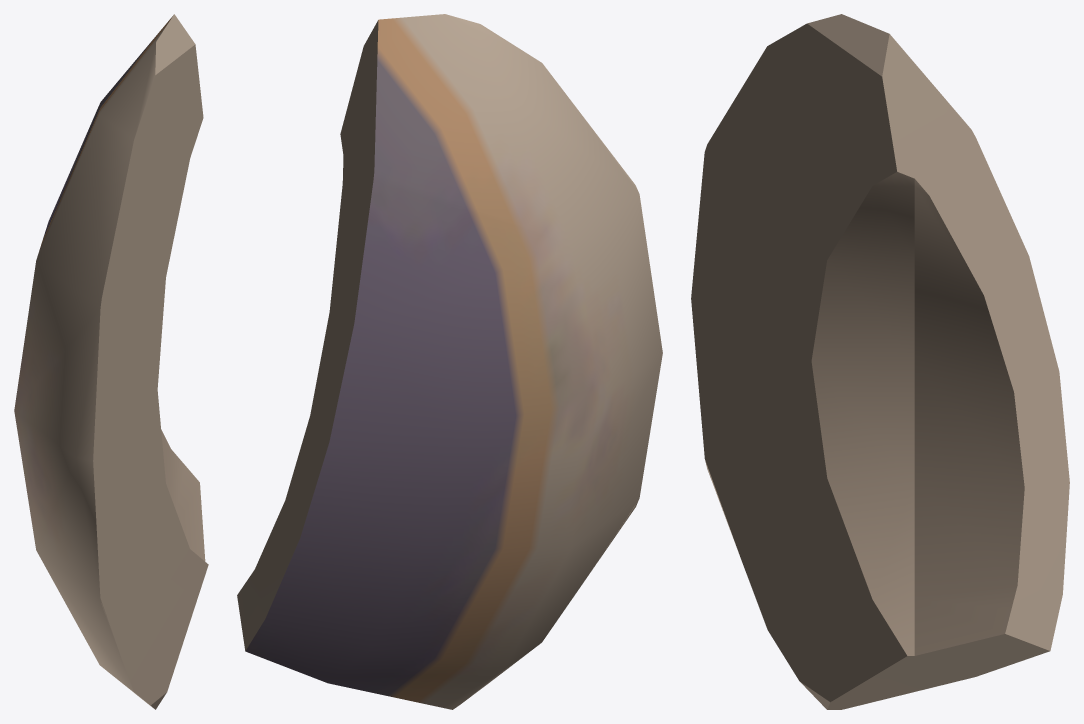
Rendered from Pot_Cell17.fbx.
3 views of the same model, side by side, from view 1: azimuth 30°, elevation 25°; view 2: azimuth 150°, elevation 25°; view 3: azimuth 270°, elevation 25° (orthographic). The views are drawn at different scales.
Visible parts, largest first — view 1: jar1_cell.017; view 2: jar1_cell.017; view 3: jar1_cell.017.
Part boxes in pixels (<box>): jar1_cell.017: <box>14,14,208,709</box>; jar1_cell.017: <box>237,14,662,709</box>; jar1_cell.017: <box>691,14,1069,709</box>.
Bounding box in the file's own units: 70.95 × 170 × 83.06.
1 material, 1 textured.
